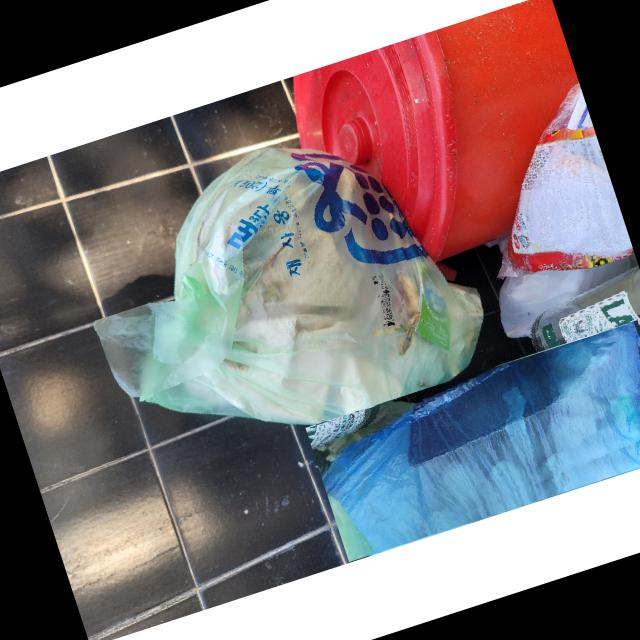general_trashbag: (300, 317, 301, 319)
other_trashbag: (322, 323, 640, 551)
